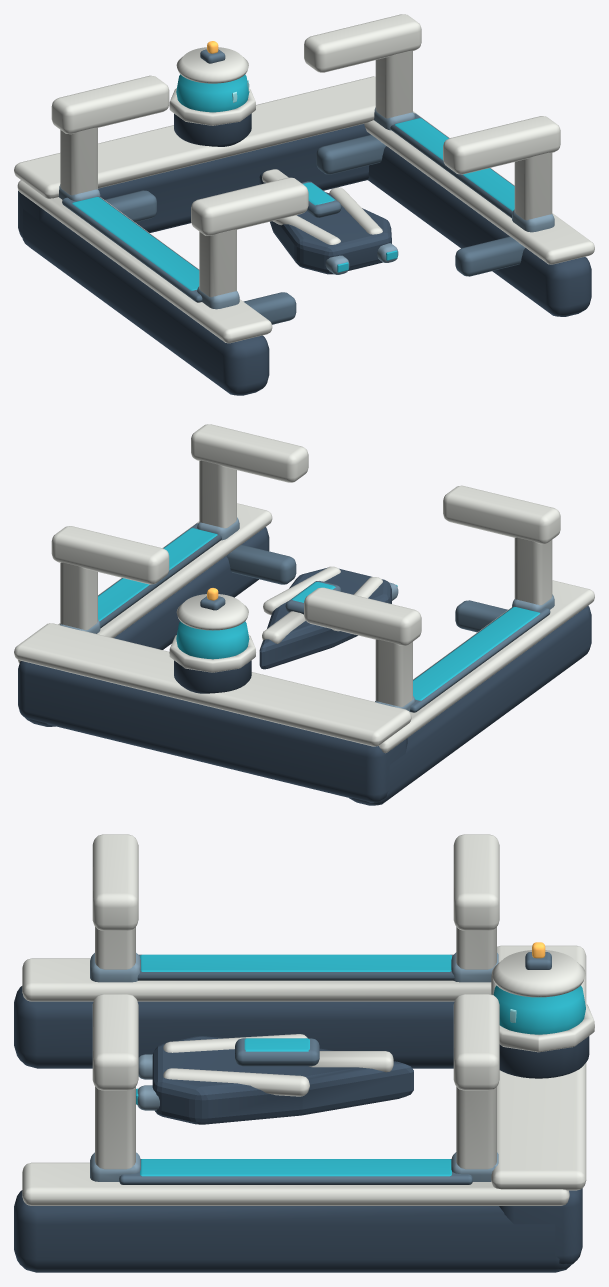
Rendered from orbital_shipyard_lv1.glb.
3 renders of one model, top to bottom at view 1: azimuth 30°, elevation 25°; view 2: azimuth 150°, elevation 25°; view 3: azimuth 270°, elevation 25°, orthographic. The views are drawn at different scales.
Parts seen in each view (by area): view 1: Structure; view 2: Structure; view 3: Structure.
Part boxes in pixels (x1=…): Structure: x1=14, y1=14, x2=594, y2=395; Structure: x1=14, y1=424, x2=594, y2=805; Structure: x1=14, y1=834, x2=594, y2=1272.
Bounding box in the file's own units: 7.5 × 3.28 × 7.83.
